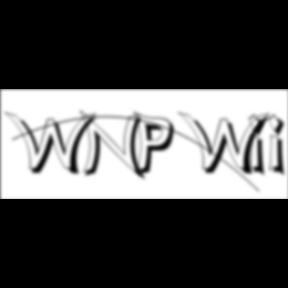N: (80, 109, 150, 183)
P: (134, 110, 180, 180)
W: (5, 110, 103, 178), (178, 110, 276, 178)
i: (248, 112, 272, 180)
